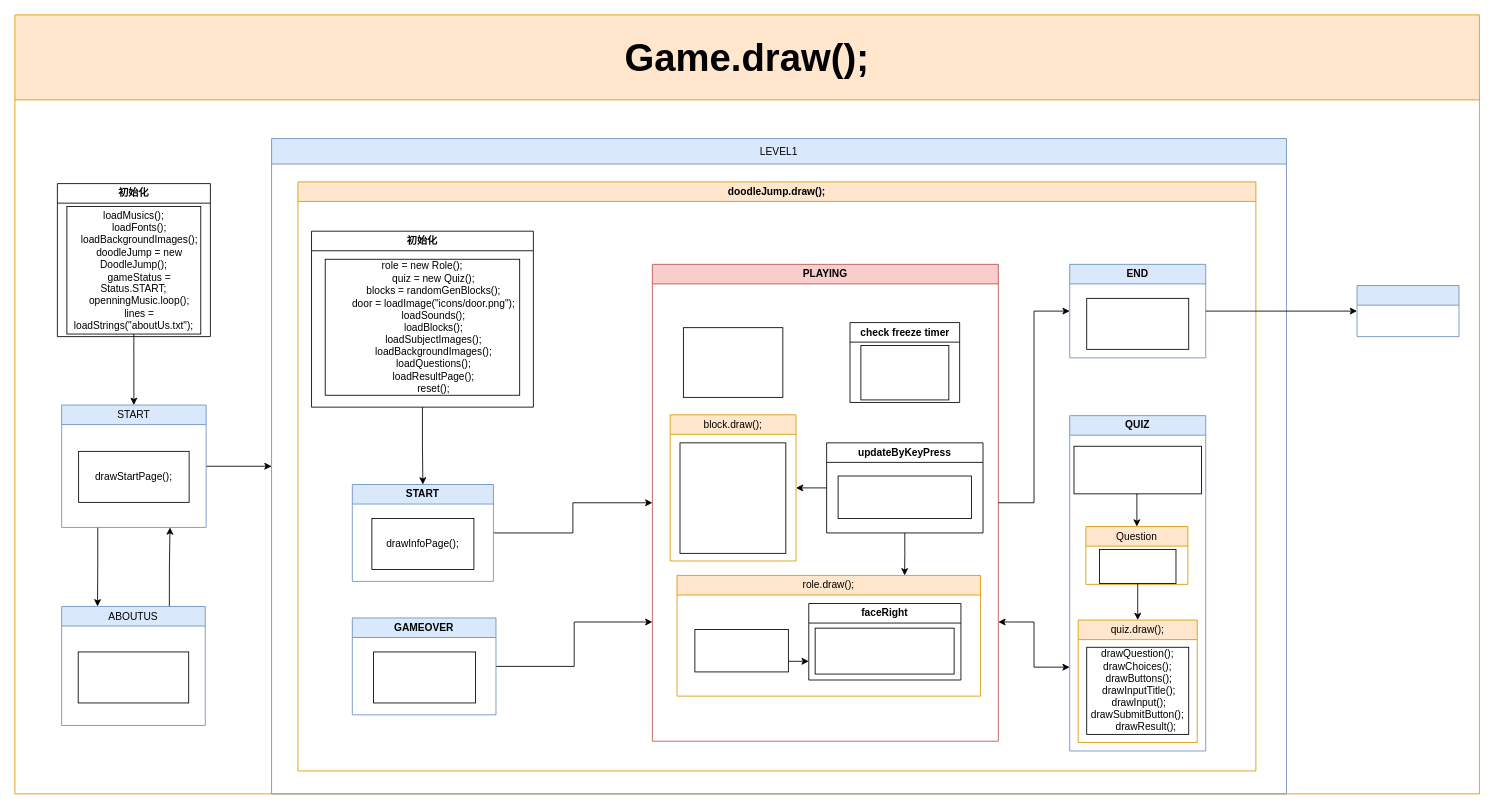
This 1494x809 diagram has some shape labels left out. The centre of each missing label's shape, as x and y in pixels:
check freeze timer check jump check faceRight: the point at 741,650
check freeze timer check keyCode == RIGHT check key == ' ': the point at 904,496
check game.doodleJump.fireTimer: the point at 884,650
check gameover check canvaOffset draw the door drawBottomSection();: the point at 733,362
drawAboutUS();: the point at 133,677
drawGameOver();: the point at 424,677
drawResultPage();: the point at 1137,323
getJSONArray: the point at 1137,566
getRandomIconType() getRandomIconX() drawIcon(int y): the point at 732,497
LEVEL2: the point at 1407,311
stayTopCheck(); hitIconCheck(); move the canva: the point at 904,372
updateAnserByKeyPress(); handleSubmit(); Question(JSONObject obj): the point at 1137,469
